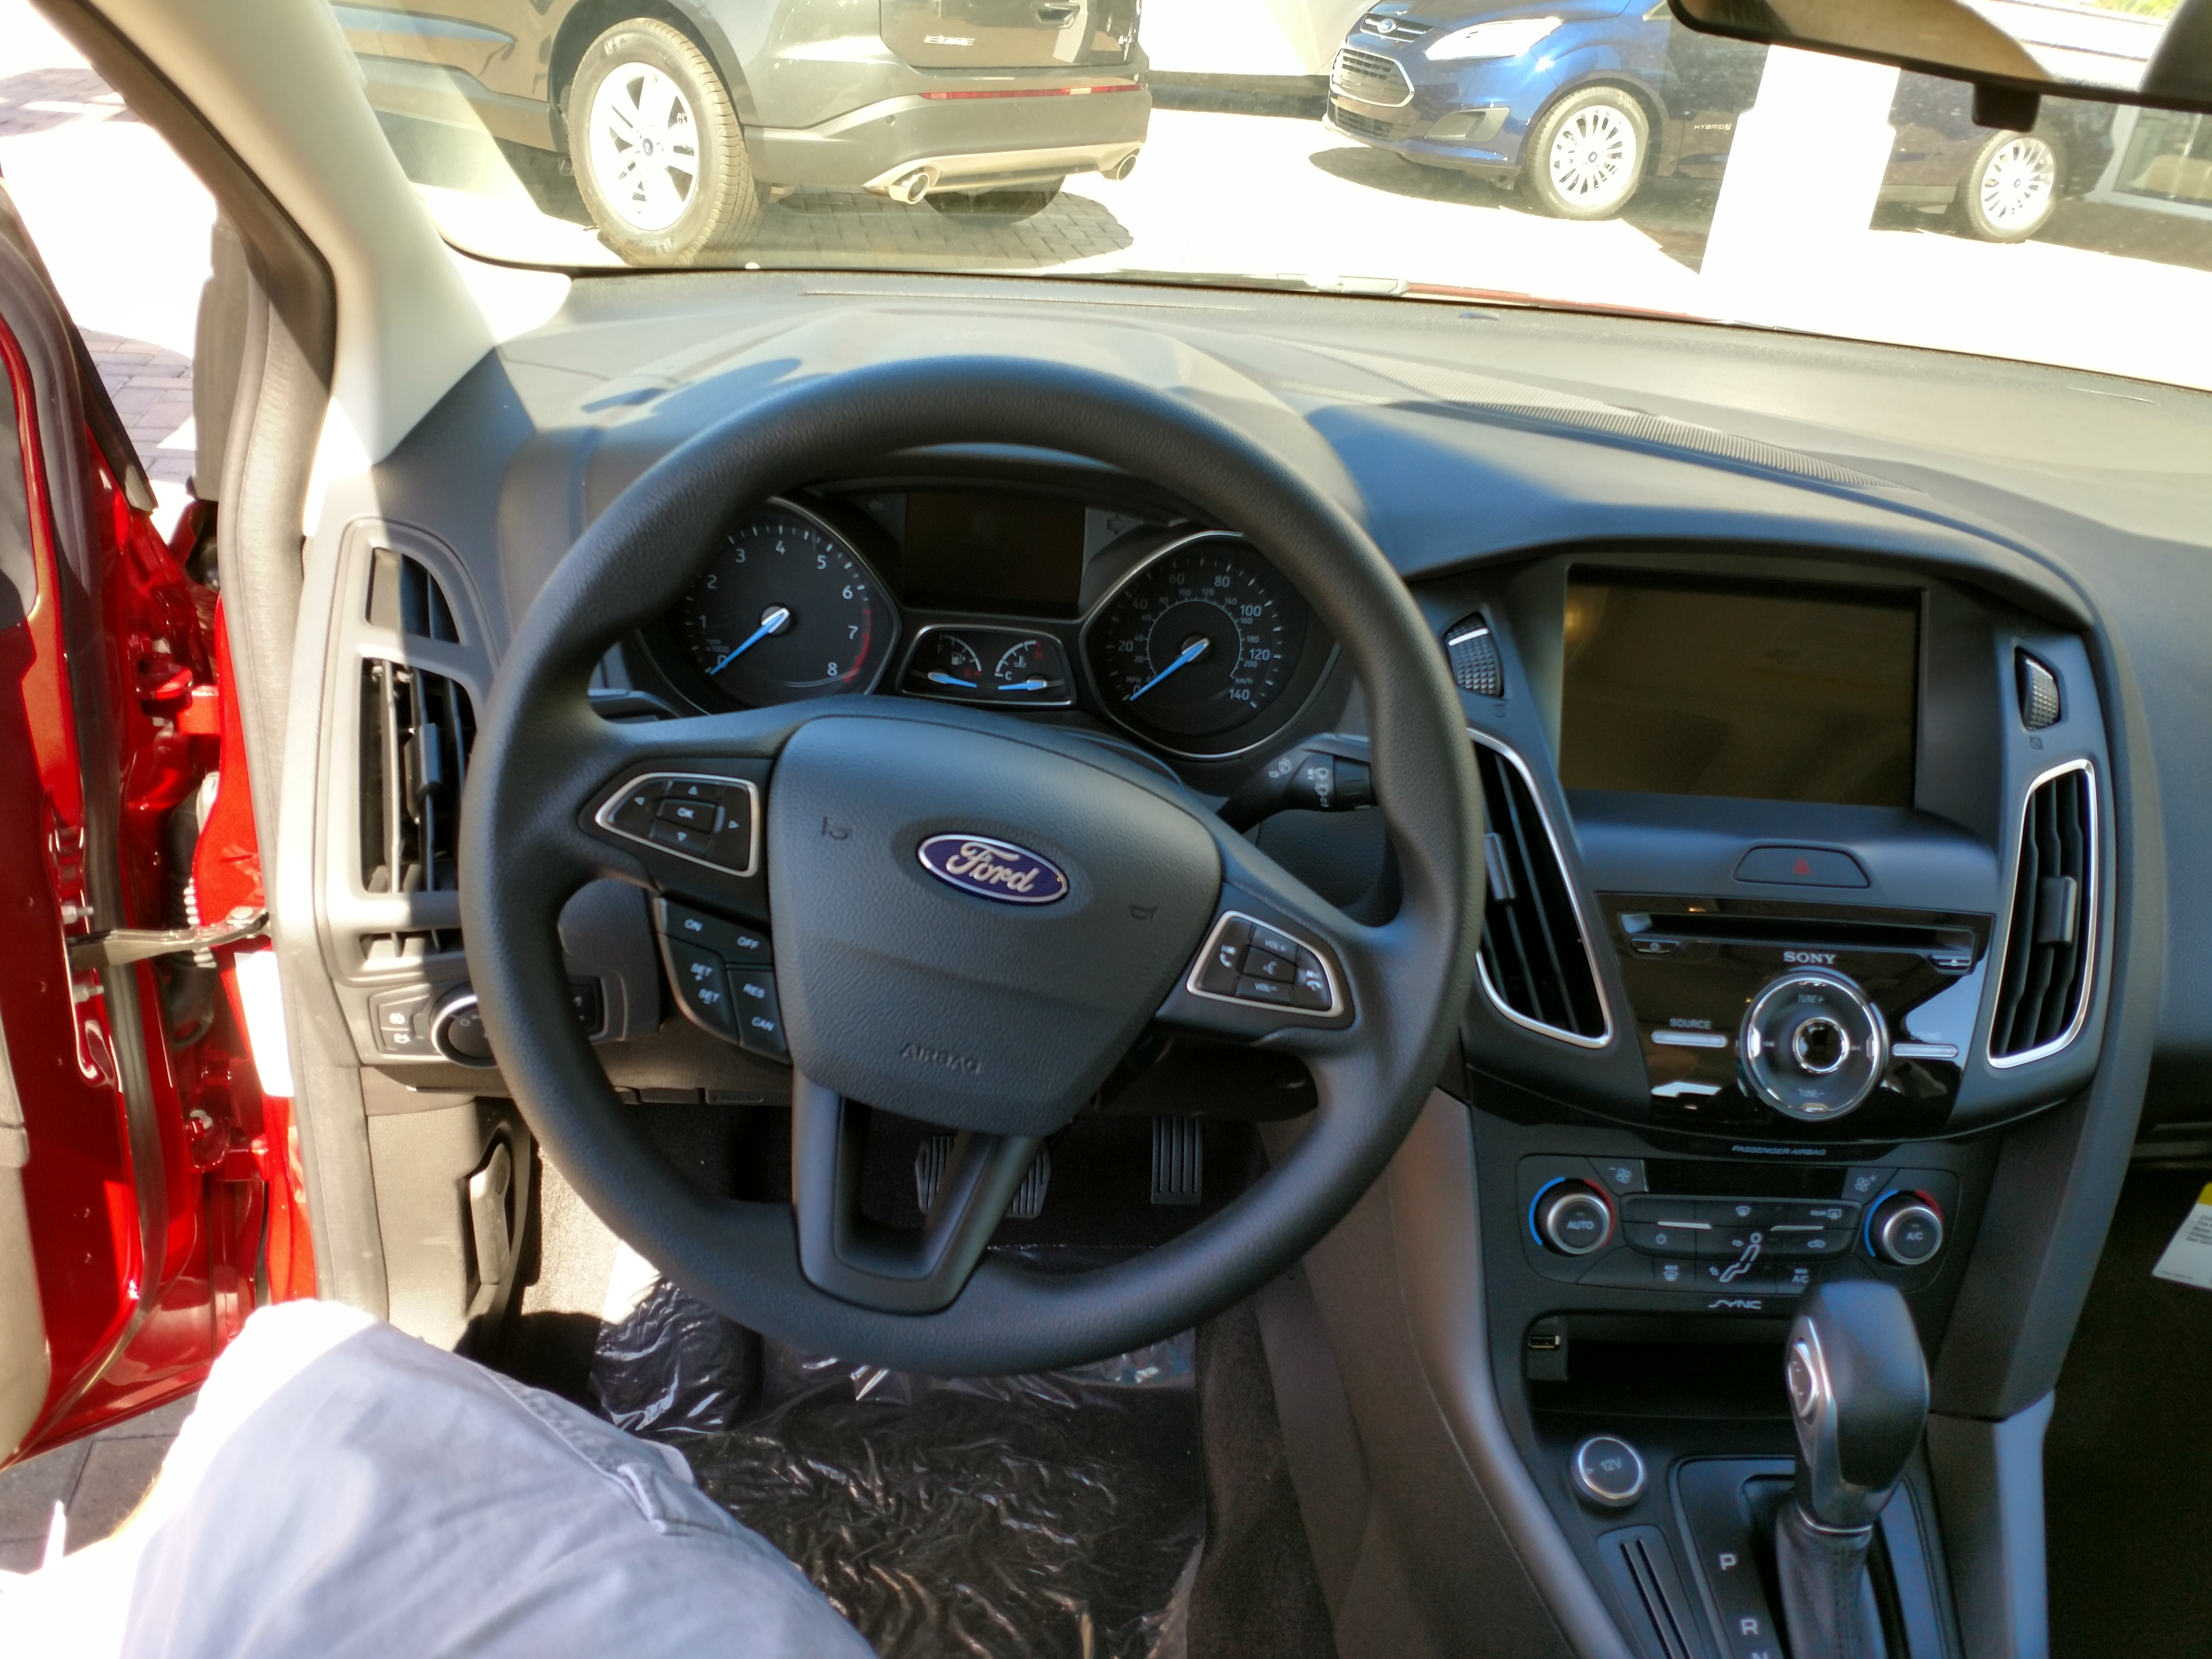Ford: (909, 814, 1089, 922)
